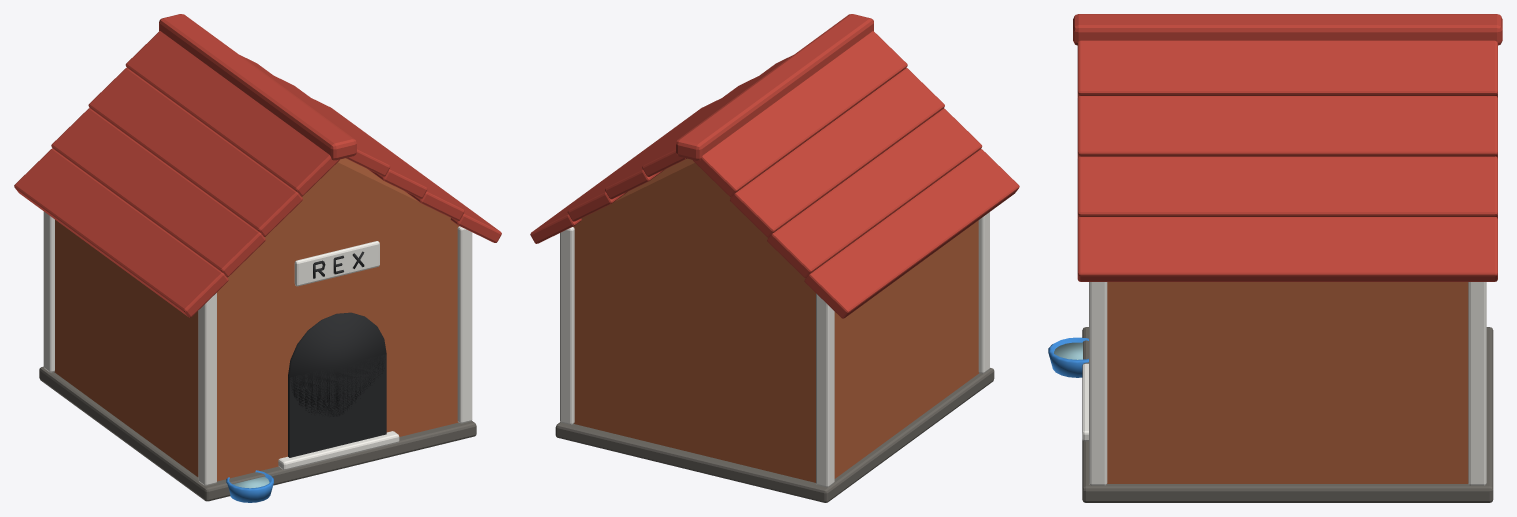
Rendered from dogHouse.glb.
3 renders of one model, left to right at view 1: azimuth 30°, elevation 25°; view 2: azimuth 150°, elevation 25°; view 3: azimuth 270°, elevation 25°, orthographic. The views are drawn at different scales.
Parts seen in each view (by area): view 1: dogHouse; view 2: dogHouse; view 3: dogHouse.
Boxes of the visible parts, <box> form: dogHouse: <box>14,14,501,502</box>; dogHouse: <box>530,14,1019,502</box>; dogHouse: <box>1048,14,1502,502</box>.
Size of the model in its own units: 0.9831 by 0.975 by 0.994.
